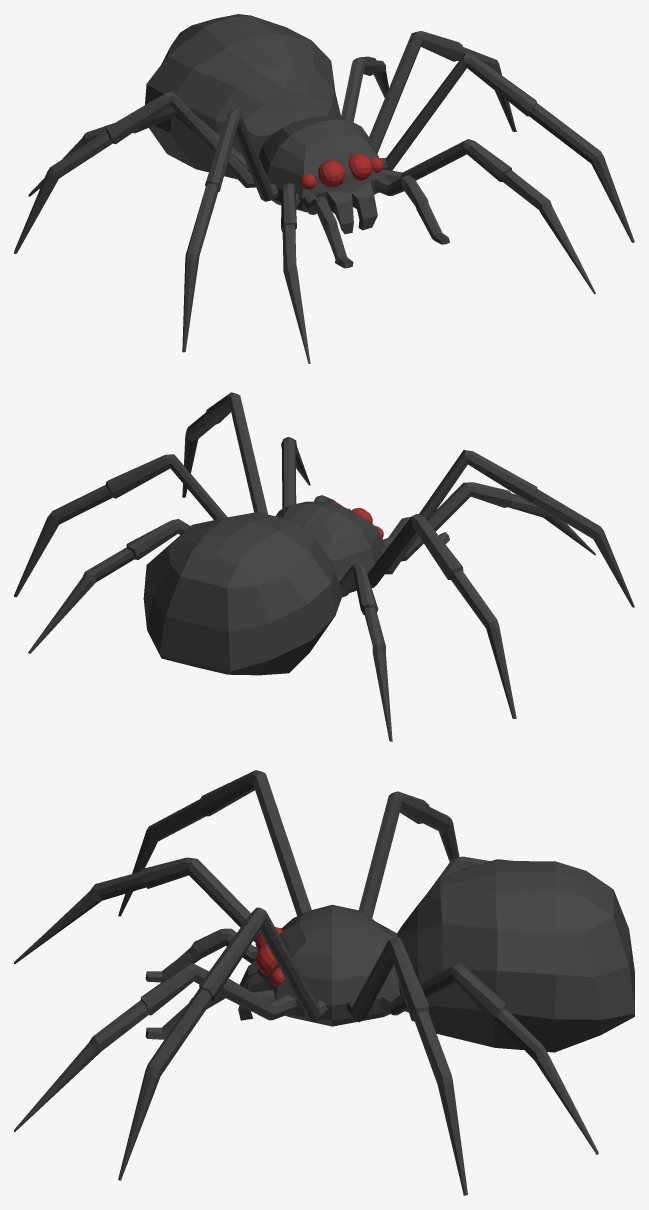
Rendered from E_Spider.glb.
The picture shows the model from 3 angles, top to bottom: view 1: azimuth 30°, elevation 25°; view 2: azimuth 150°, elevation 25°; view 3: azimuth 270°, elevation 25°; orthographic projection. The views are drawn at different scales.
Visible parts, largest first — view 1: SK_Spider; view 2: SK_Spider; view 3: SK_Spider.
Part boxes in pixels (x1,y1,x2,y2): SK_Spider: (14, 14, 634, 363); SK_Spider: (14, 392, 634, 741); SK_Spider: (14, 770, 634, 1195).
Size of the model in its own units: 5.94 by 1.95 by 5.27.
